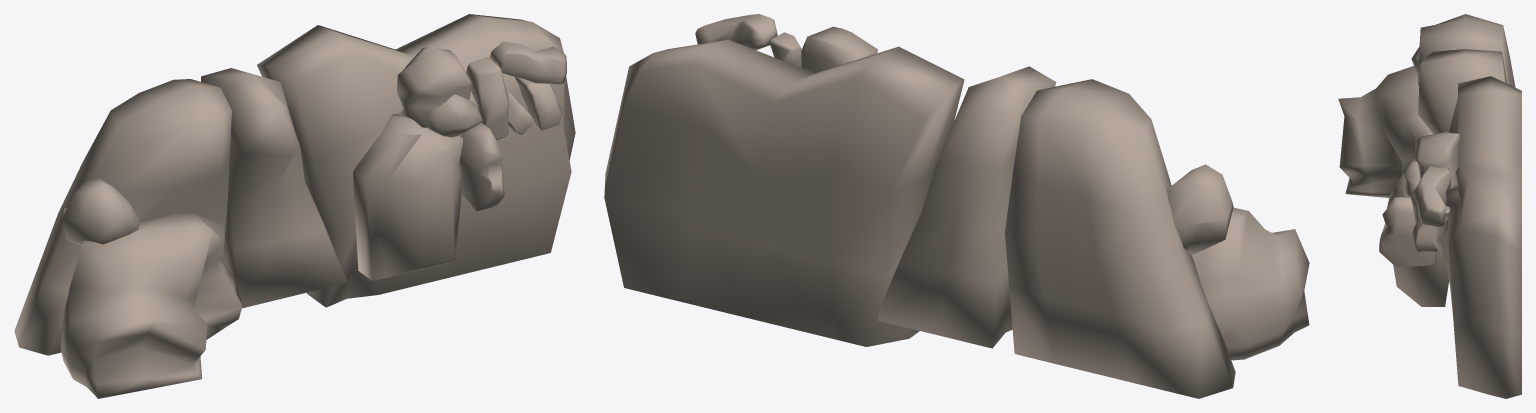
The picture shows the model from 3 angles, left to right: view 1: azimuth 30°, elevation 25°; view 2: azimuth 150°, elevation 25°; view 3: azimuth 270°, elevation 25°; orthographic projection. The views are drawn at different scales.
Parts seen in each view (by area): view 1: polySurface3284, polySurface3280, polySurface3281, polySurface3282, polySurface3285, polySurface3289, polySurface3283, polySurface3286, polySurface3294, polySurface3291, polySurface3287, polySurface3293 (+1 smaller); view 2: polySurface3284, polySurface3281, polySurface3282, polySurface3280, polySurface3283, polySurface3289, polySurface3294, polySurface3291; view 3: polySurface3284, polySurface3280, polySurface3282, polySurface3281, polySurface3286, polySurface3285, polySurface3294, polySurface3289, polySurface3293, polySurface3287, polySurface3291.
Boxes of the visible parts, left/top/right/bottom form: polySurface3284: left=257, top=14, right=575, bottom=307; polySurface3280: left=60, top=213, right=241, bottom=398; polySurface3281: left=14, top=79, right=231, bottom=355; polySurface3282: left=201, top=68, right=347, bottom=308; polySurface3285: left=353, top=113, right=462, bottom=280; polySurface3289: left=397, top=47, right=472, bottom=127; polySurface3283: left=62, top=177, right=139, bottom=245; polySurface3286: left=459, top=122, right=504, bottom=211; polySurface3294: left=489, top=41, right=566, bottom=84; polySurface3291: left=466, top=56, right=508, bottom=140; polySurface3287: left=427, top=94, right=482, bottom=137; polySurface3293: left=515, top=77, right=561, bottom=130; polySurface3284: left=604, top=39, right=964, bottom=346; polySurface3281: left=1005, top=79, right=1235, bottom=398; polySurface3282: left=877, top=66, right=1056, bottom=348; polySurface3280: left=1192, top=207, right=1309, bottom=360; polySurface3283: left=1167, top=164, right=1233, bottom=255; polySurface3289: left=801, top=26, right=877, bottom=72; polySurface3294: left=695, top=14, right=777, bottom=50; polySurface3291: left=768, top=32, right=801, bottom=67; polySurface3284: left=1440, top=76, right=1521, bottom=398; polySurface3280: left=1338, top=66, right=1432, bottom=197; polySurface3282: left=1418, top=49, right=1506, bottom=134; polySurface3281: left=1418, top=14, right=1515, bottom=87; polySurface3286: left=1379, top=196, right=1436, bottom=266; polySurface3285: left=1387, top=174, right=1448, bottom=306; polySurface3294: left=1413, top=166, right=1450, bottom=227; polySurface3289: left=1414, top=131, right=1460, bottom=191; polySurface3293: left=1412, top=206, right=1450, bottom=252; polySurface3287: left=1403, top=161, right=1420, bottom=196; polySurface3291: left=1410, top=165, right=1448, bottom=223.
Bounding box in the file's own units: 64.49 × 27.36 × 21.18.
